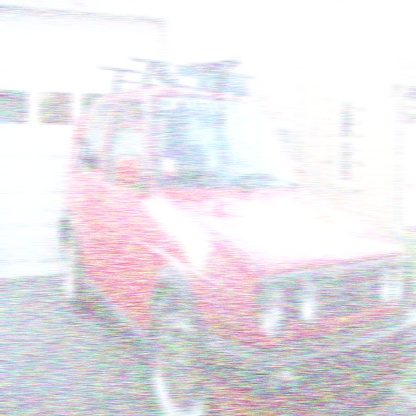Vehicle: (58, 53, 415, 415)
